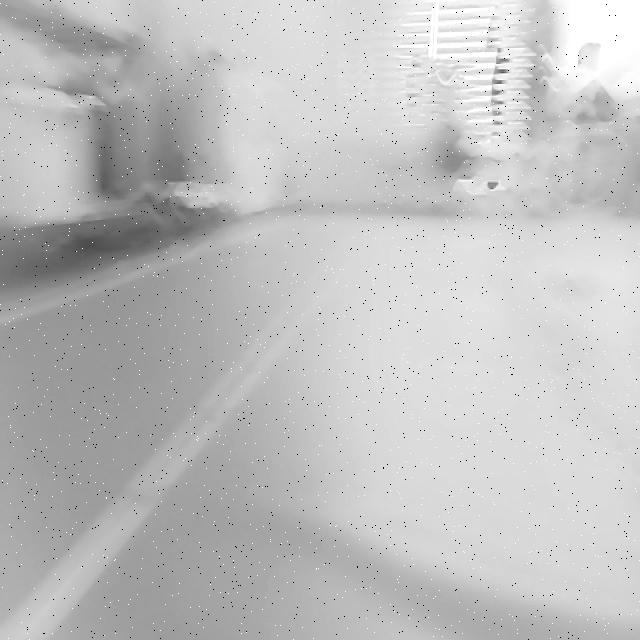left_lane: (0, 268, 335, 640)
